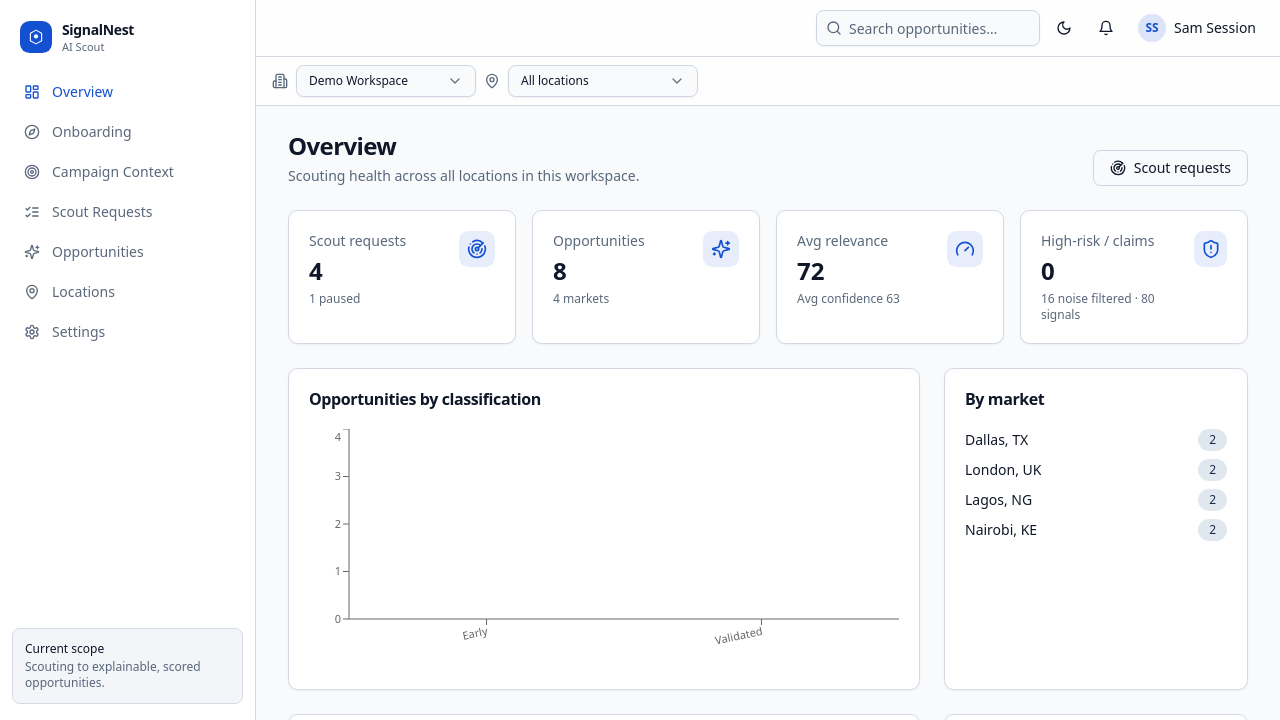
Scenario: no session-ended notice where none ended (P6-UI-013) › shows none after Sign out, including when the server says the session had already ended (401)
The image size is (1280, 720).
Click the button with aria-label "account menu". click: [1197, 28]
box: 1130,10 -> 1264,46
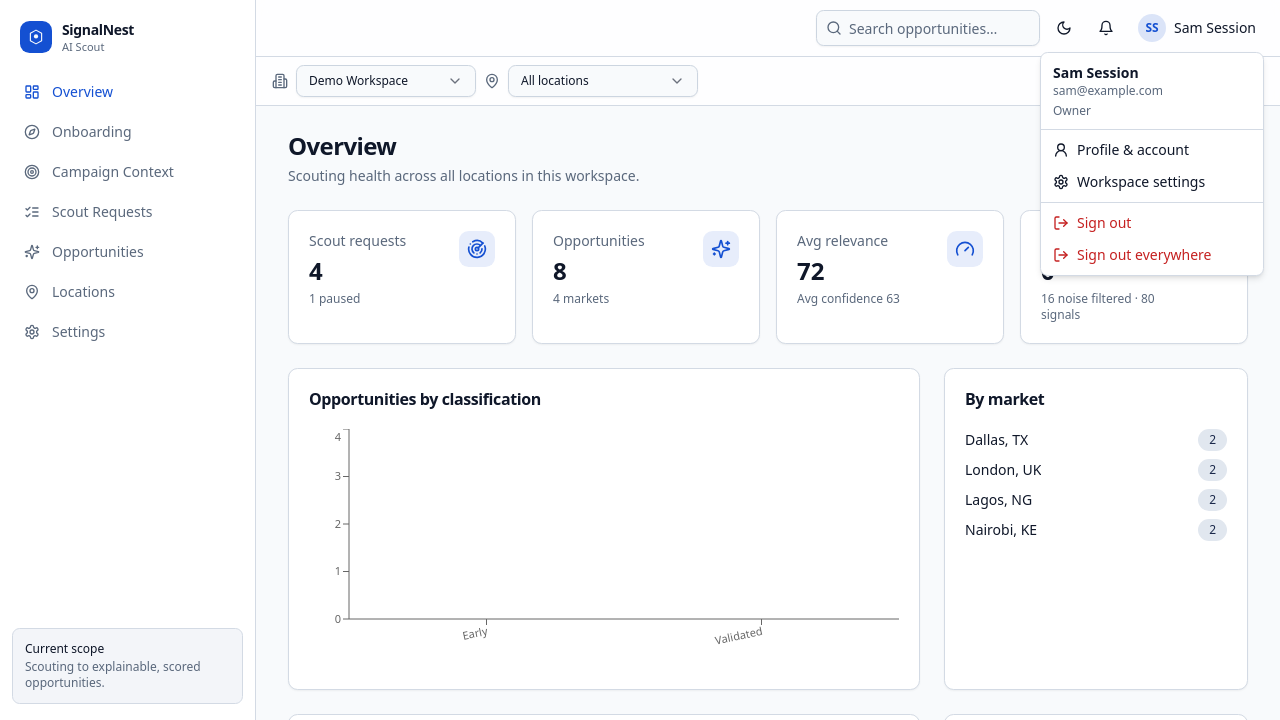
Click the menu item "Sign out". click: [1092, 222]
box: 1053,213 -> 1131,232
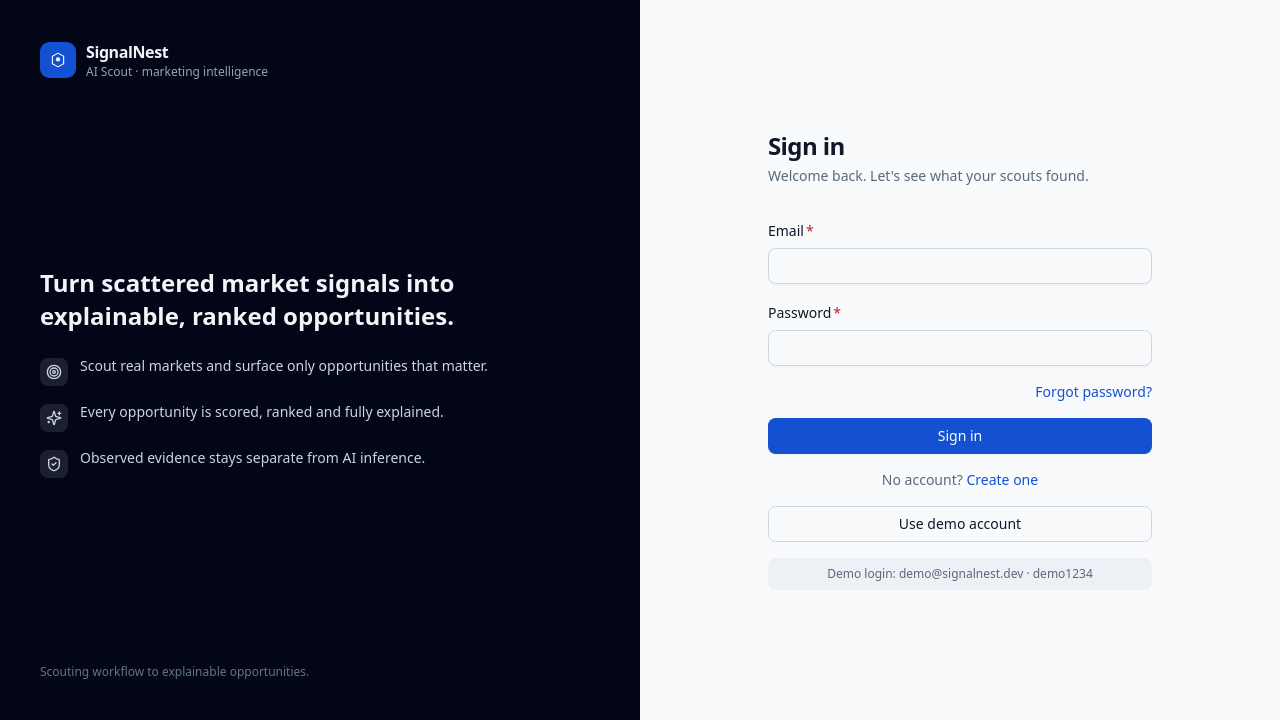
Result: the button "Sign in" is shown at 768,418 -> 1152,454
